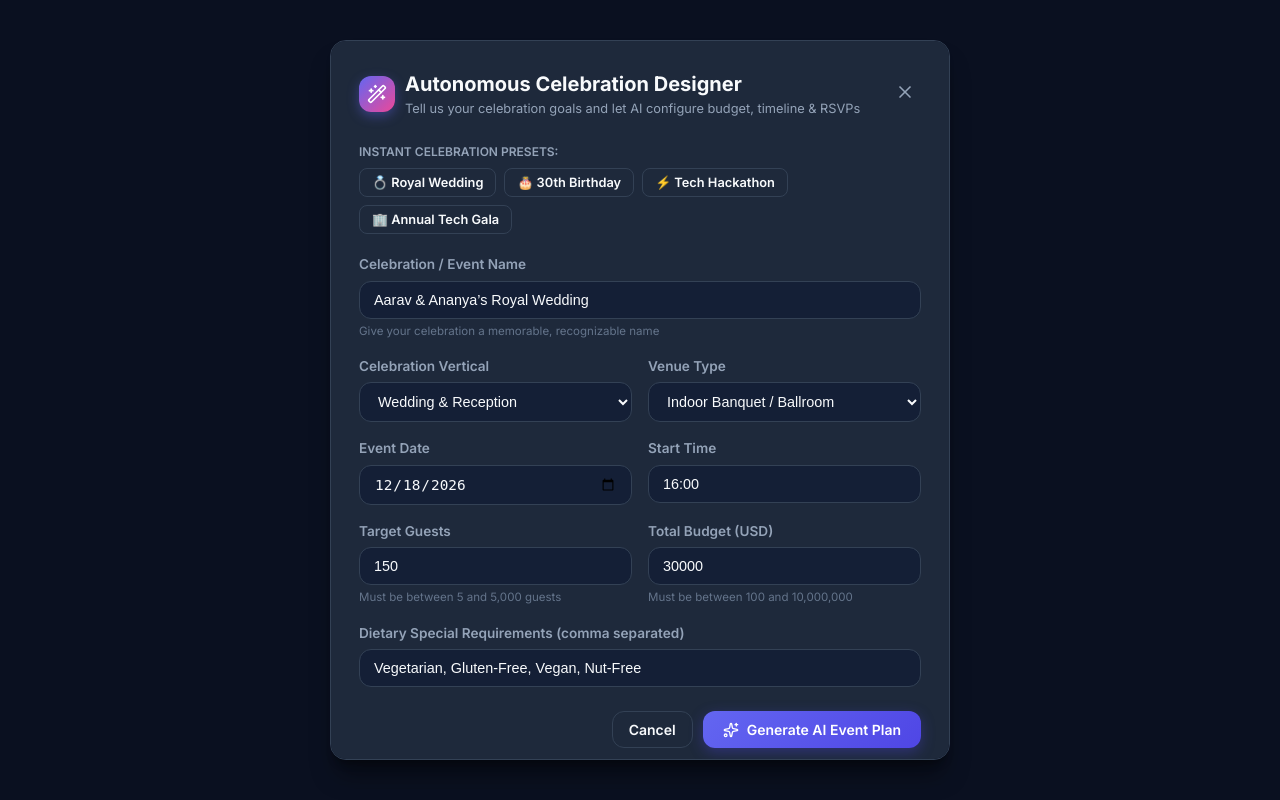
Advanced Winner Features Component Tests › EventWizardModal validates input bounds and displays form-level error summary
Replace the text in the number field labelled "Target Guests" with "2" at [496, 566], box [359,547,632,585]
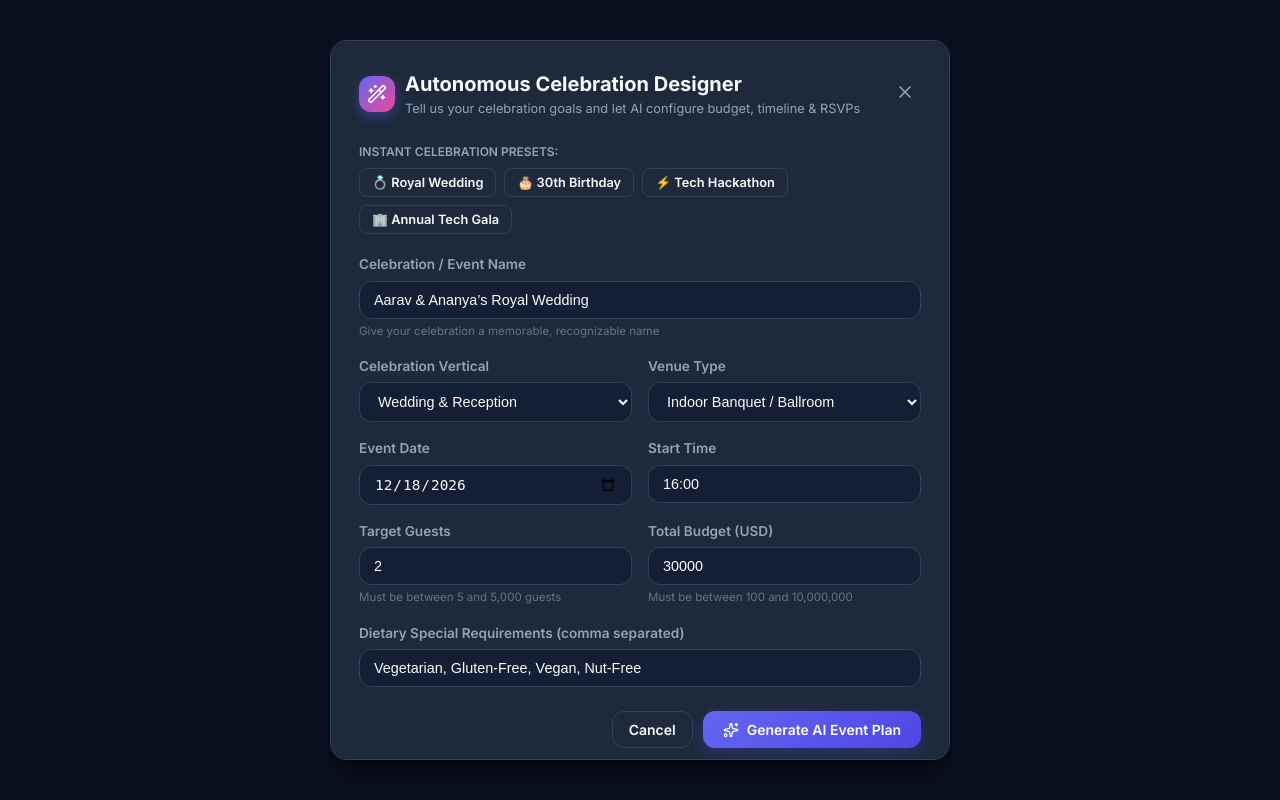
Submit the form named "Generate AI Event Plan", box [359,254,921,748]
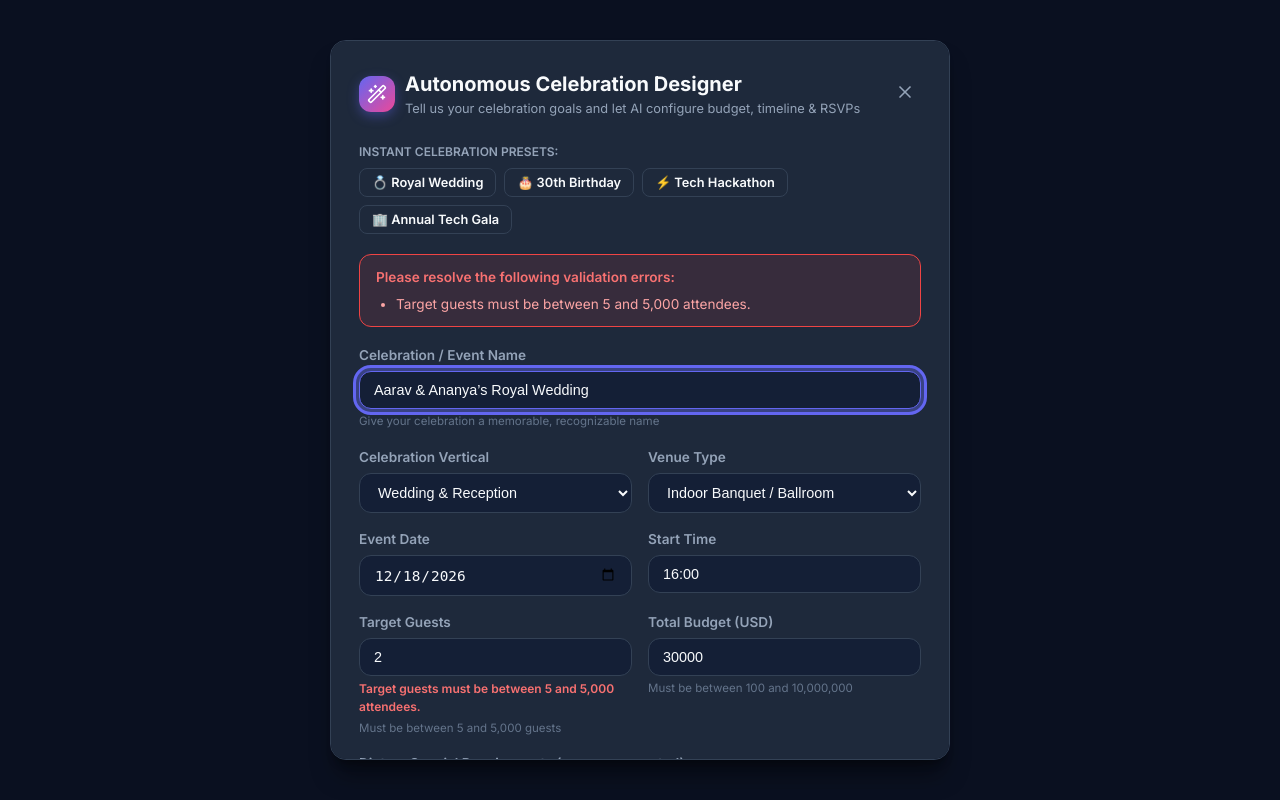
Expected: the message is shown, [359,254,921,327]
